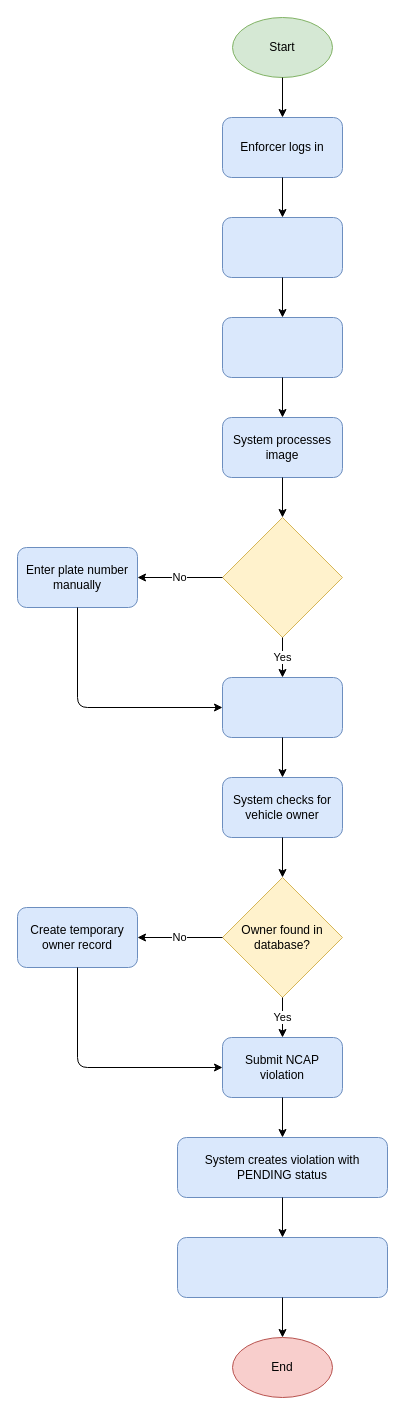
Some shapes in this 405 by 1415 pixel diagram are drawn without their labels. The centre of each missing label's shape, as x and y in pixels:
"Capture or upload vehicle photo" goes at (282,347).
"Enter violation details" goes at (282,707).
"Generate notification for owner (if known)" goes at (282,1267).
"License plate recognized?" goes at (282,577).
"Navigate to Create NCAP Violation" goes at (282,247).
